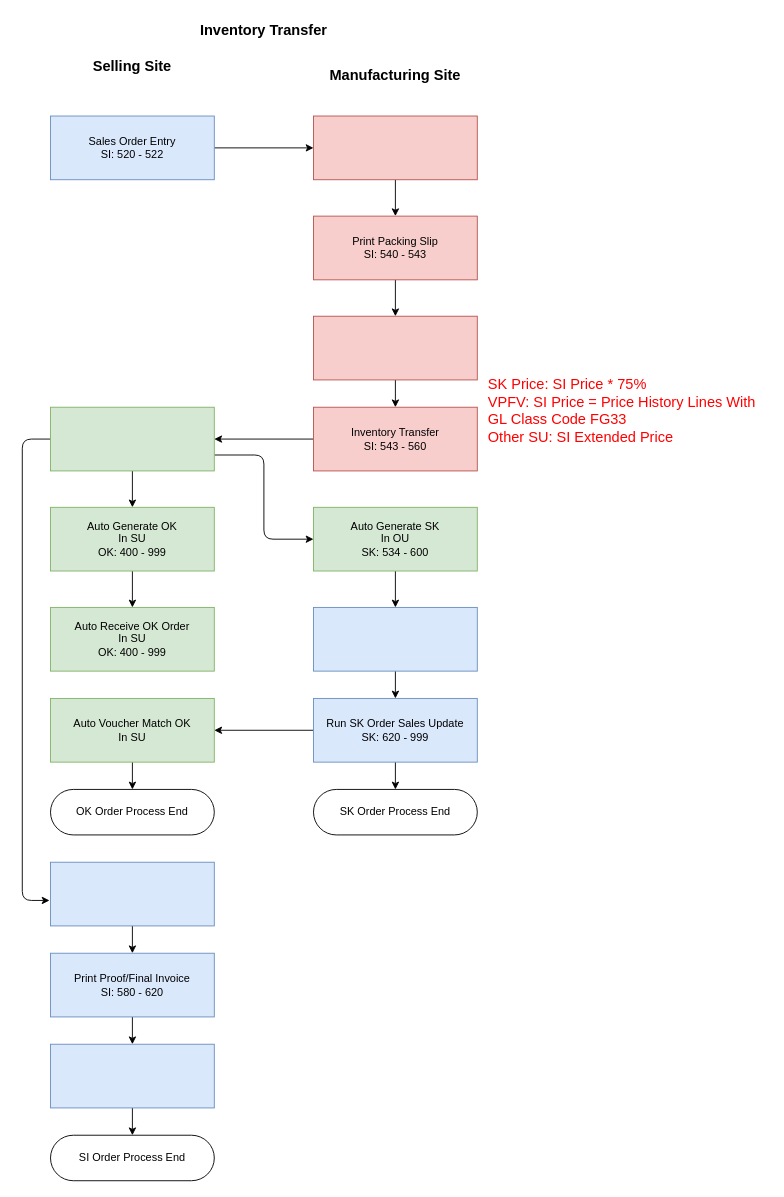
The diagram is 784 pixels wide and 1197 high, and some of its shapes have lost their labels. Each missing label, with the centre of its shape:
"Auto Generate SK/OK Hourly or Manually" goes at (x=132, y=438).
"Planning/Design/Manufacturing Process SI: 529 - 540" goes at (x=395, y=147).
"Print Delivery Note SI: 543 - 560" goes at (x=395, y=347).
"Print Final SK Invoice SK: 600 - 620" goes at (x=395, y=639).
"Run SI Order Sales Update SI: 620 - 999" goes at (x=132, y=1075).
"Ship Confirm SI: 560 - 570" goes at (x=132, y=893).
